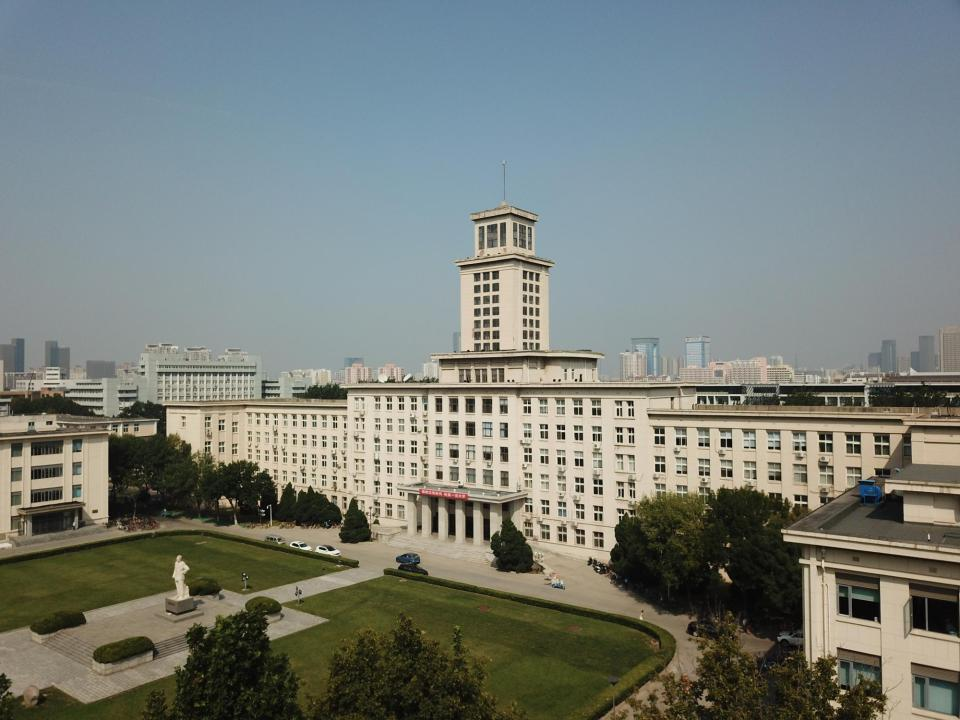car: (685, 618, 735, 644), (775, 627, 804, 647), (398, 562, 429, 576), (314, 544, 342, 557), (289, 540, 313, 553), (395, 552, 421, 564), (263, 533, 286, 546)
